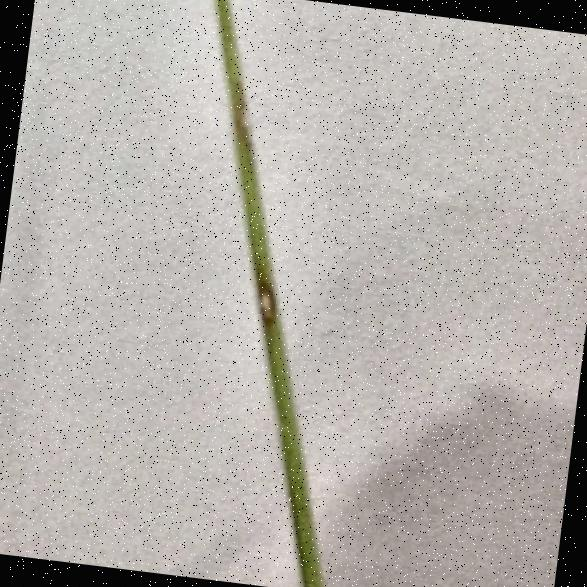Leaf_smut: (212, 74, 266, 148), (238, 276, 291, 330)
